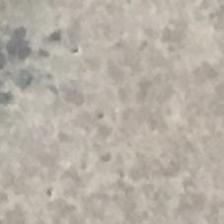Non_Crack: (6, 0, 224, 223)
